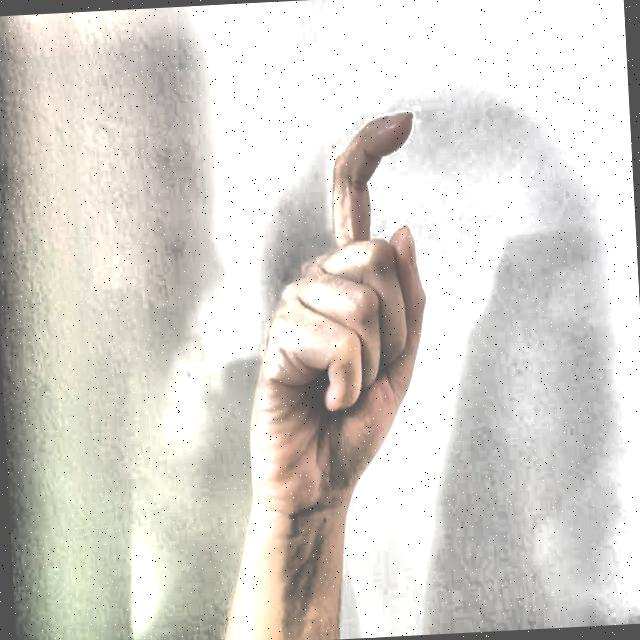E: (203, 67, 452, 528)
